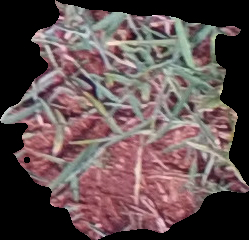grass: (1, 1, 248, 239)
